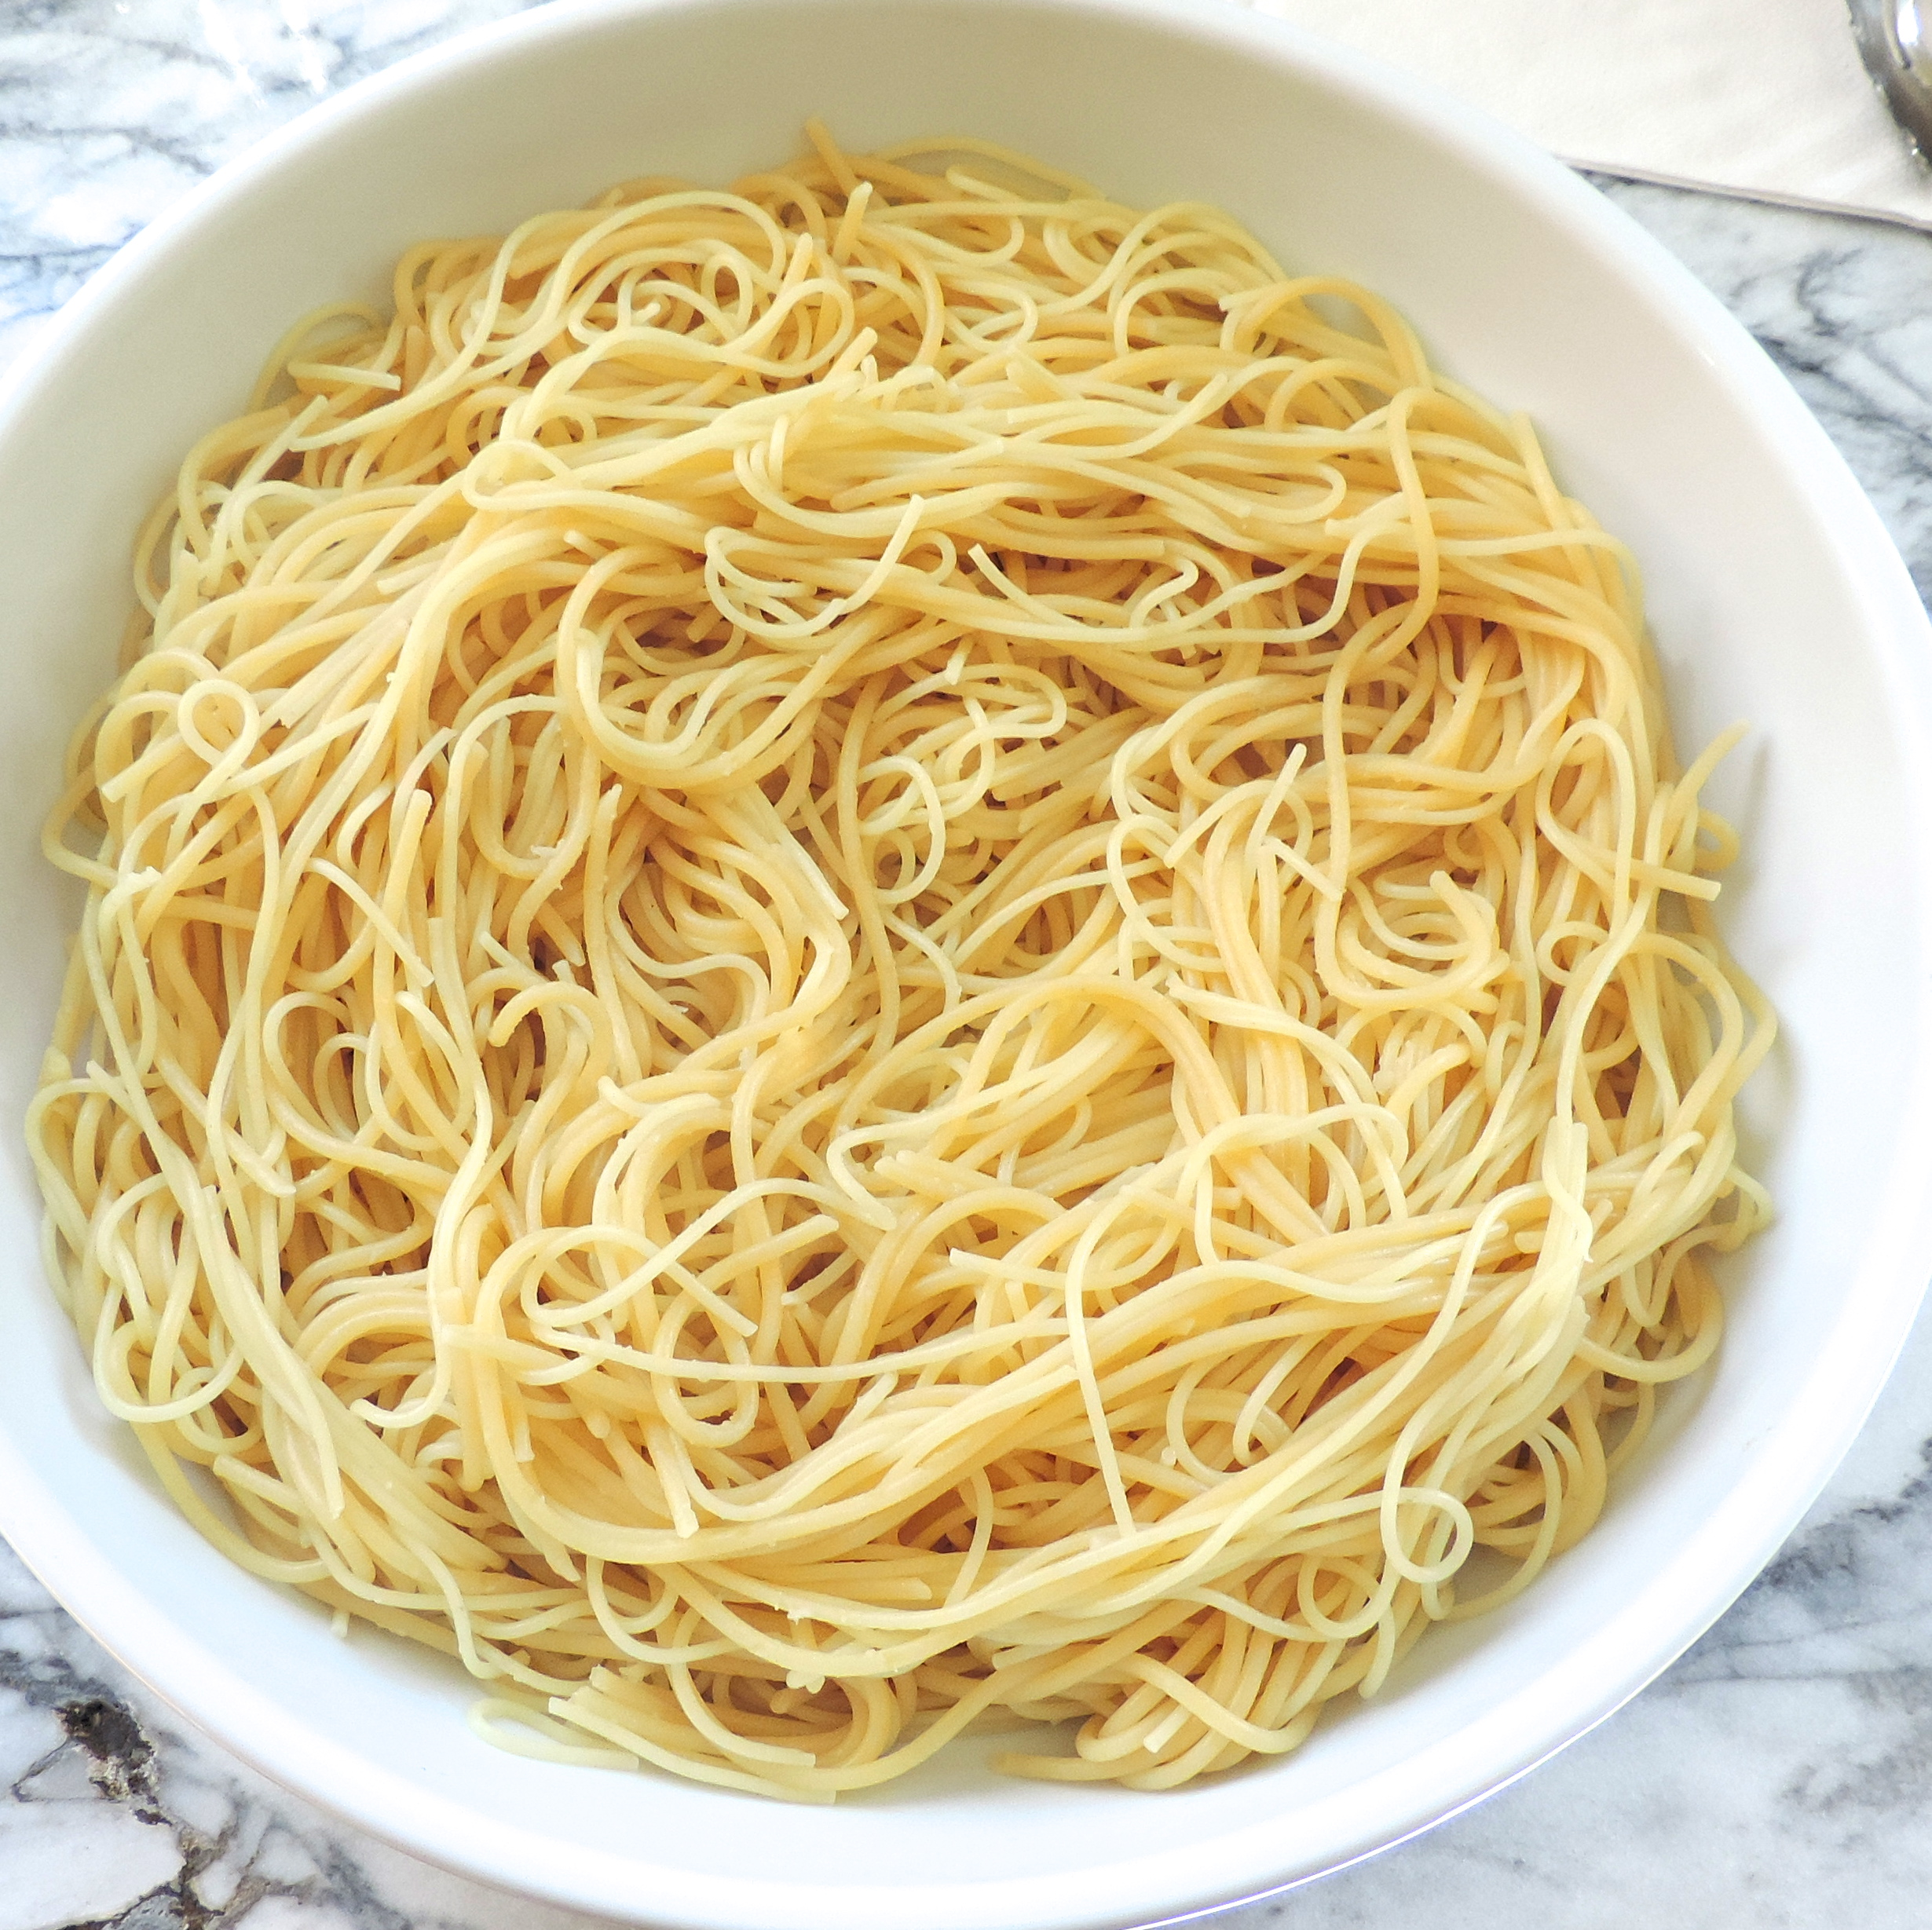plain spaghetti: (85, 212, 1750, 1713)
